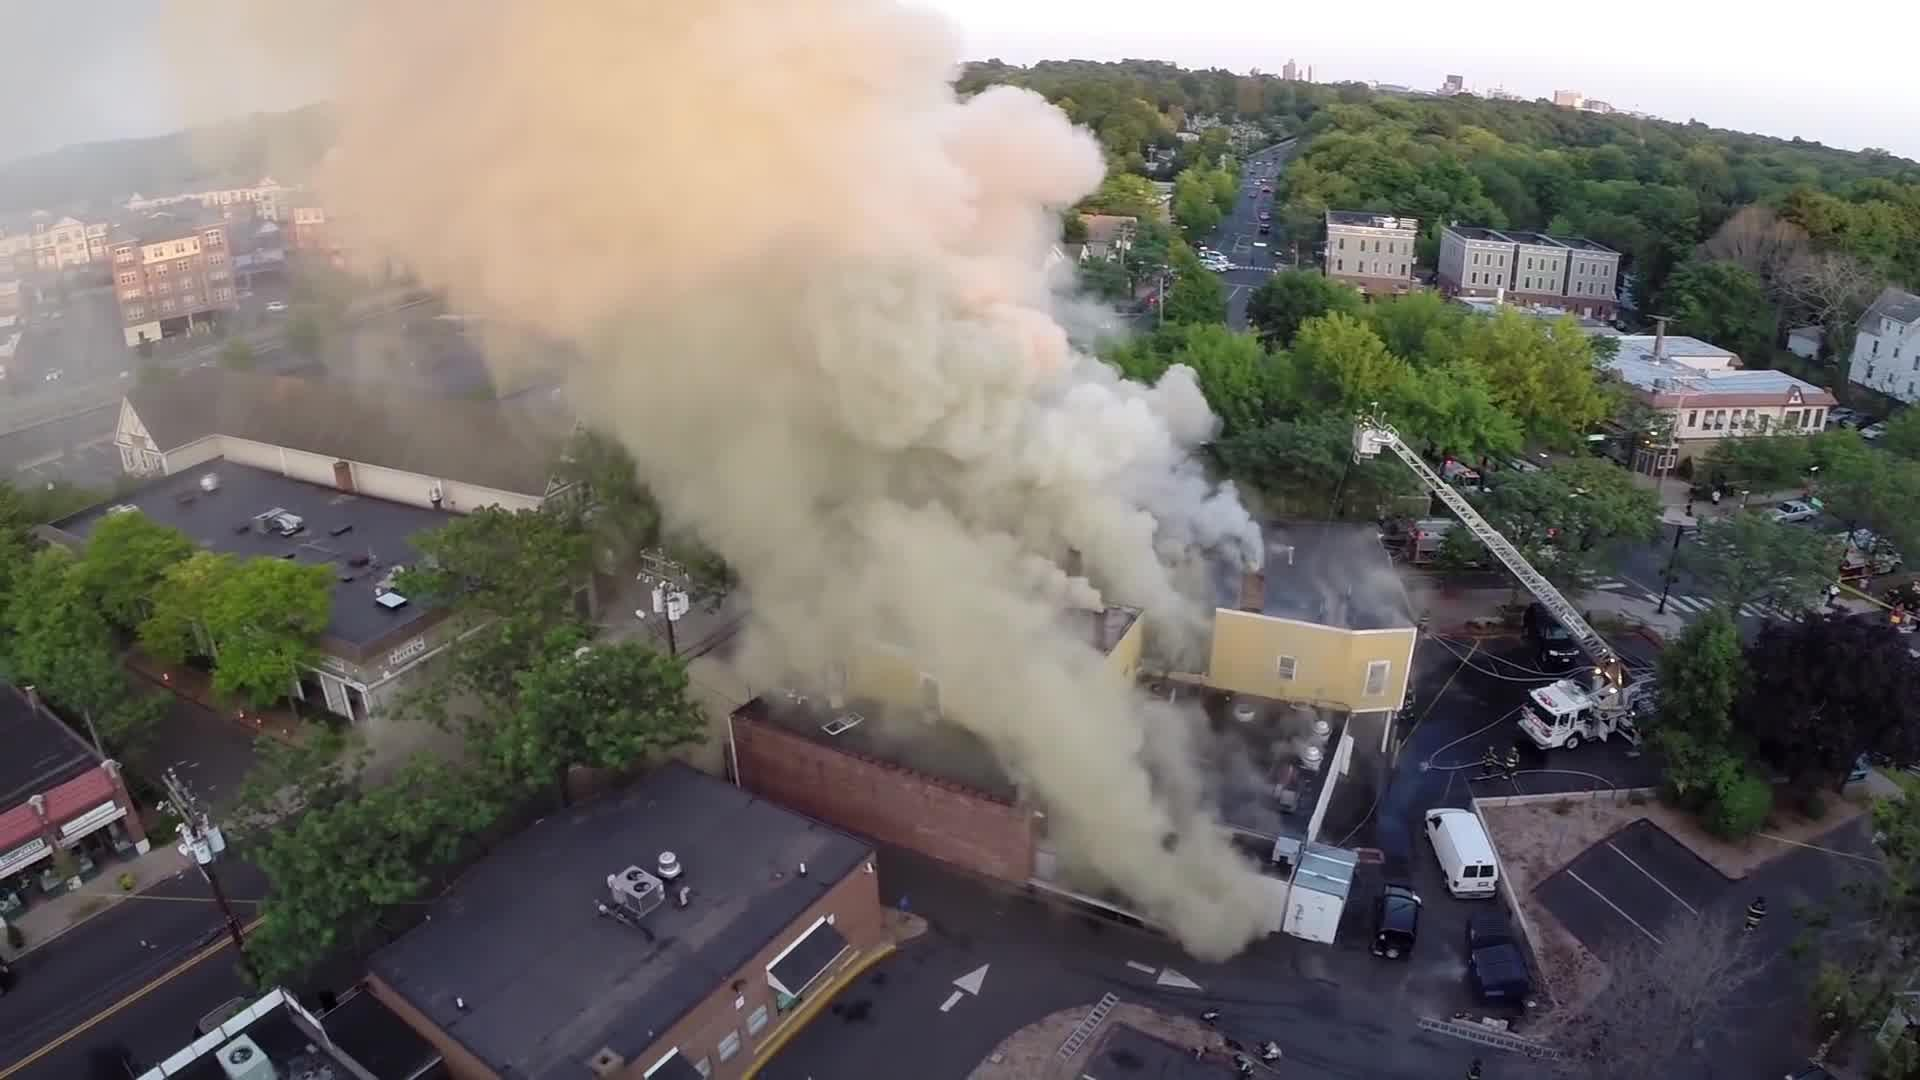smoke: (470, 73, 1026, 423), (727, 454, 994, 661), (1043, 669, 1213, 903), (1053, 399, 1186, 540)
